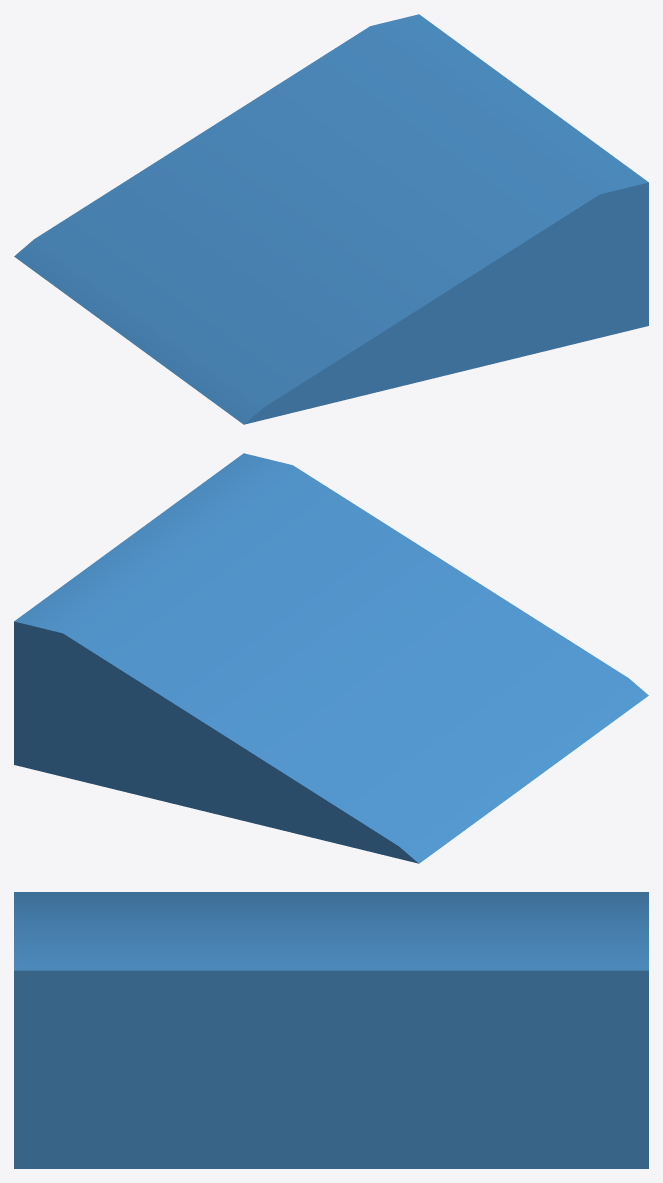
The model's file is Pod_Incline_COL.fbx.
3 views of the same model, one above another, from view 1: azimuth 30°, elevation 25°; view 2: azimuth 150°, elevation 25°; view 3: azimuth 270°, elevation 25° (orthographic). The views are drawn at different scales.
Parts seen in each view (by area): view 1: Pod_Incline_COL; view 2: Pod_Incline_COL; view 3: Pod_Incline_COL.
Boxes of the visible parts, x1,y1,x2,y2 form: Pod_Incline_COL: (14, 14, 648, 424); Pod_Incline_COL: (14, 453, 648, 863); Pod_Incline_COL: (14, 892, 648, 1168).
Bounding box in the file's own units: 931 × 315 × 915.
